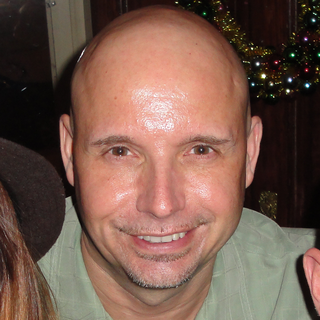eye: (98, 140, 143, 164), (178, 140, 224, 163)
